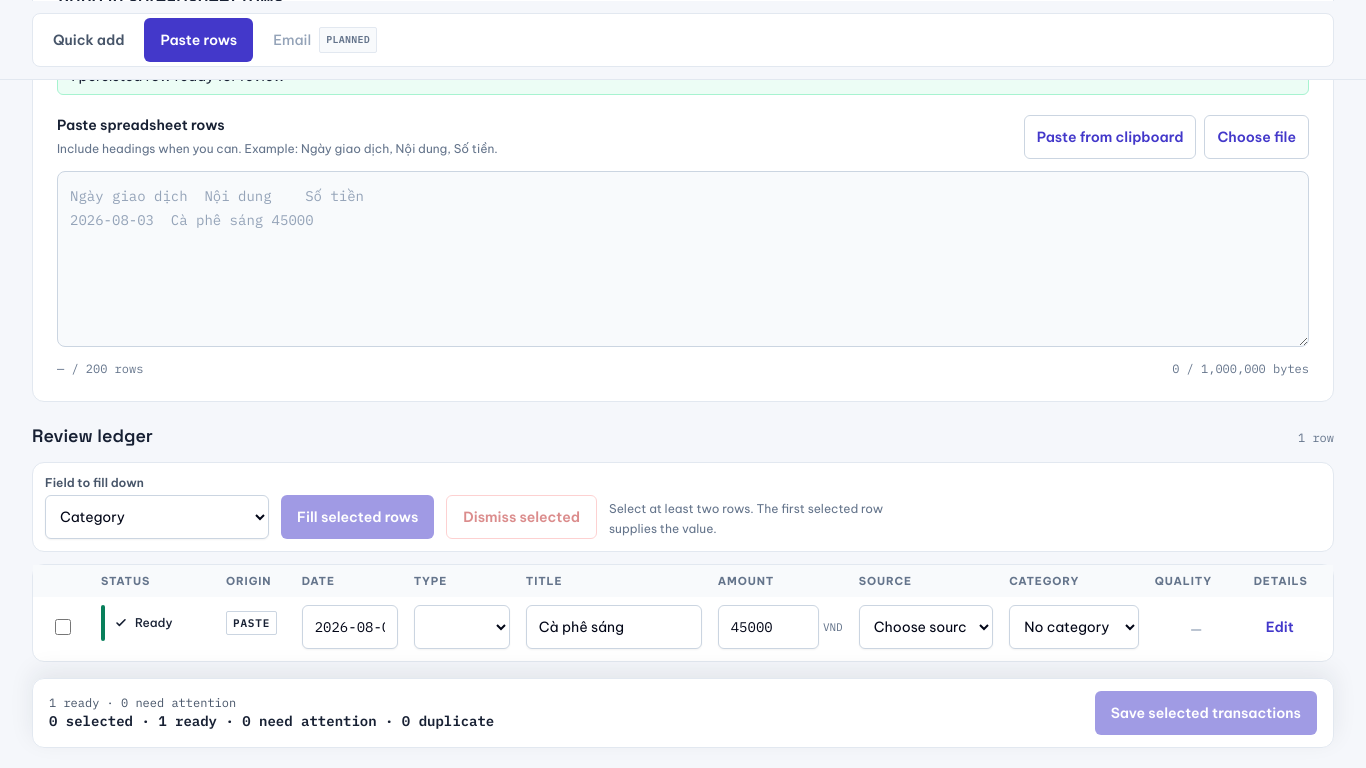
Test: spreadsheet transaction capture › requires dismissal confirmation and restores focus when cancelled
(page scrolled)
Click the checkbox named "Select row 1". click: click(63, 627)
box: [55,619,71,635]
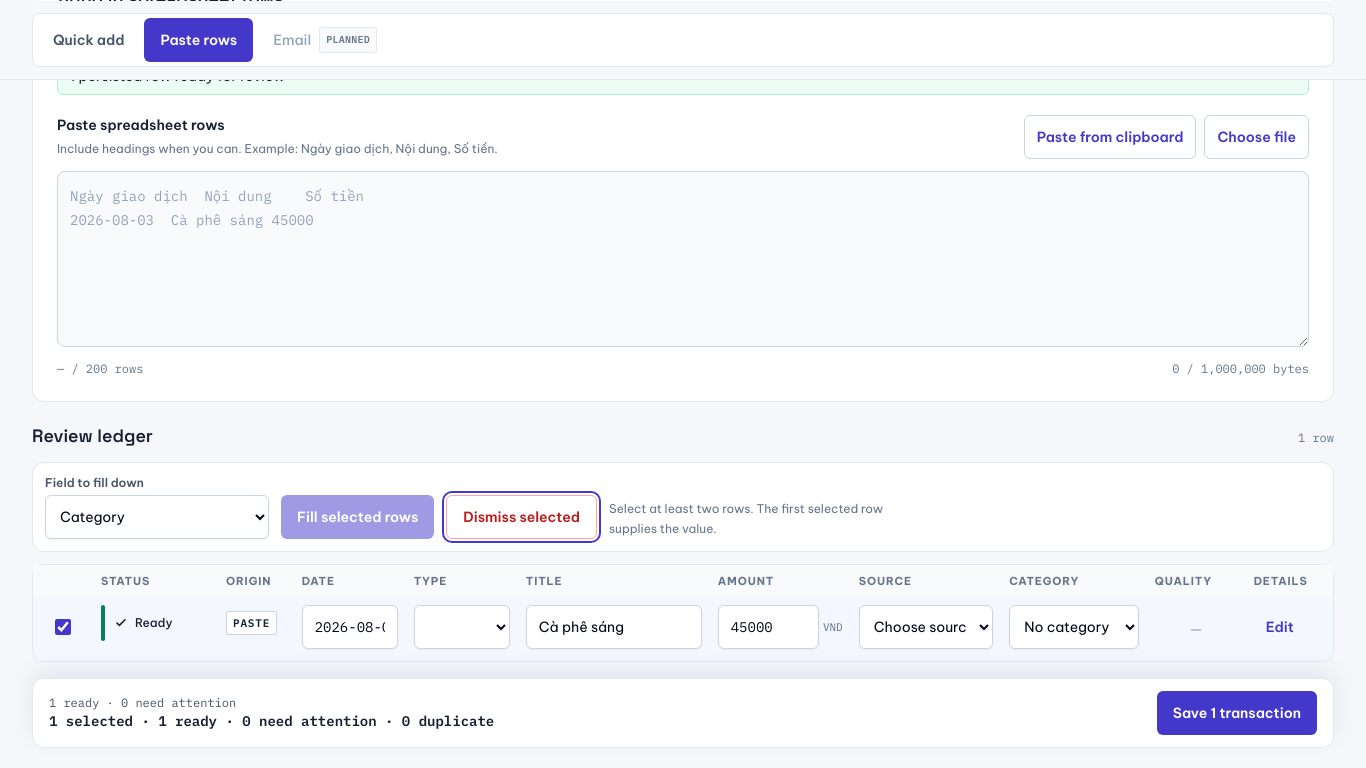
Click the button "Dismiss selected". click: click(522, 516)
box: [446,494,597,538]
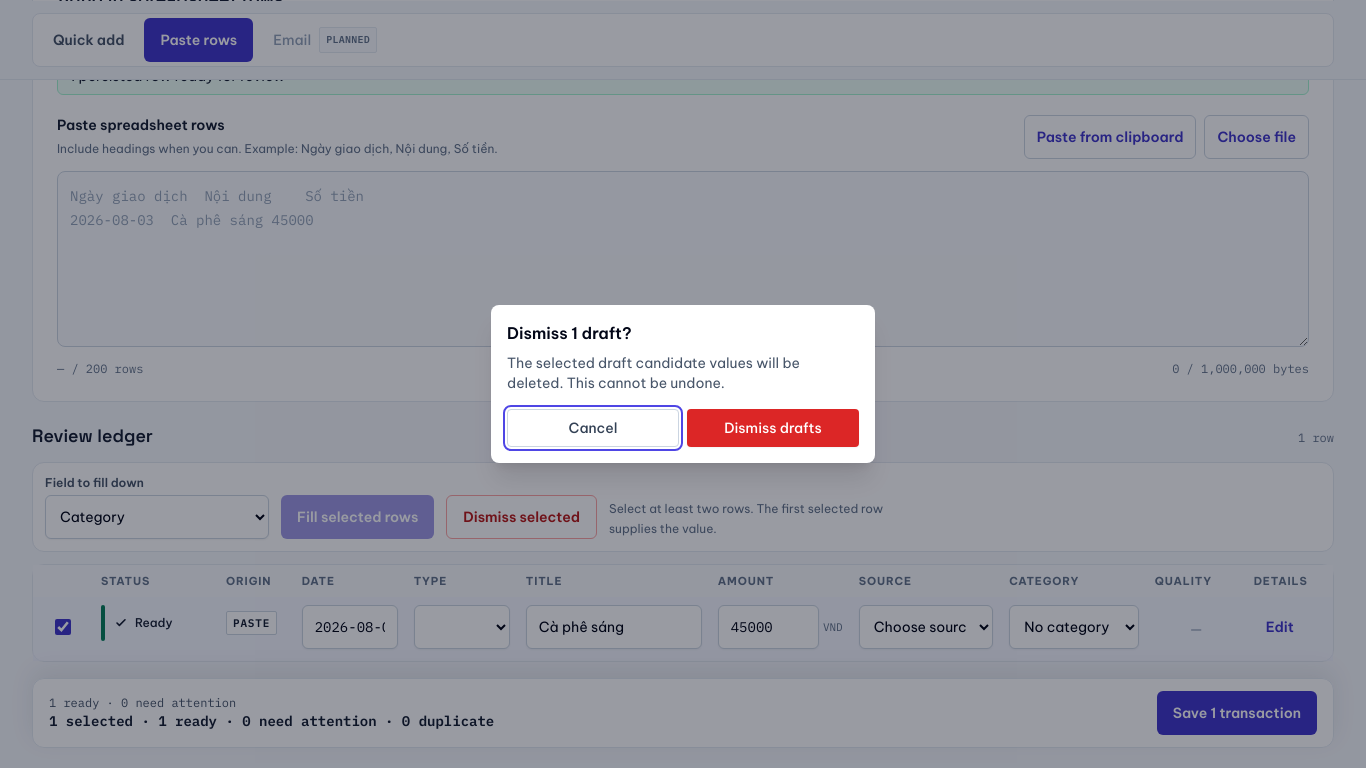
Result: the dialog "Dismiss 1 draft?" is shown at [491,305,875,463]
Result: the text "candidate values will be deleted" is shown at [507,354,800,392]
Click the button "Cancel". click: click(593, 428)
box: [507,409,679,447]
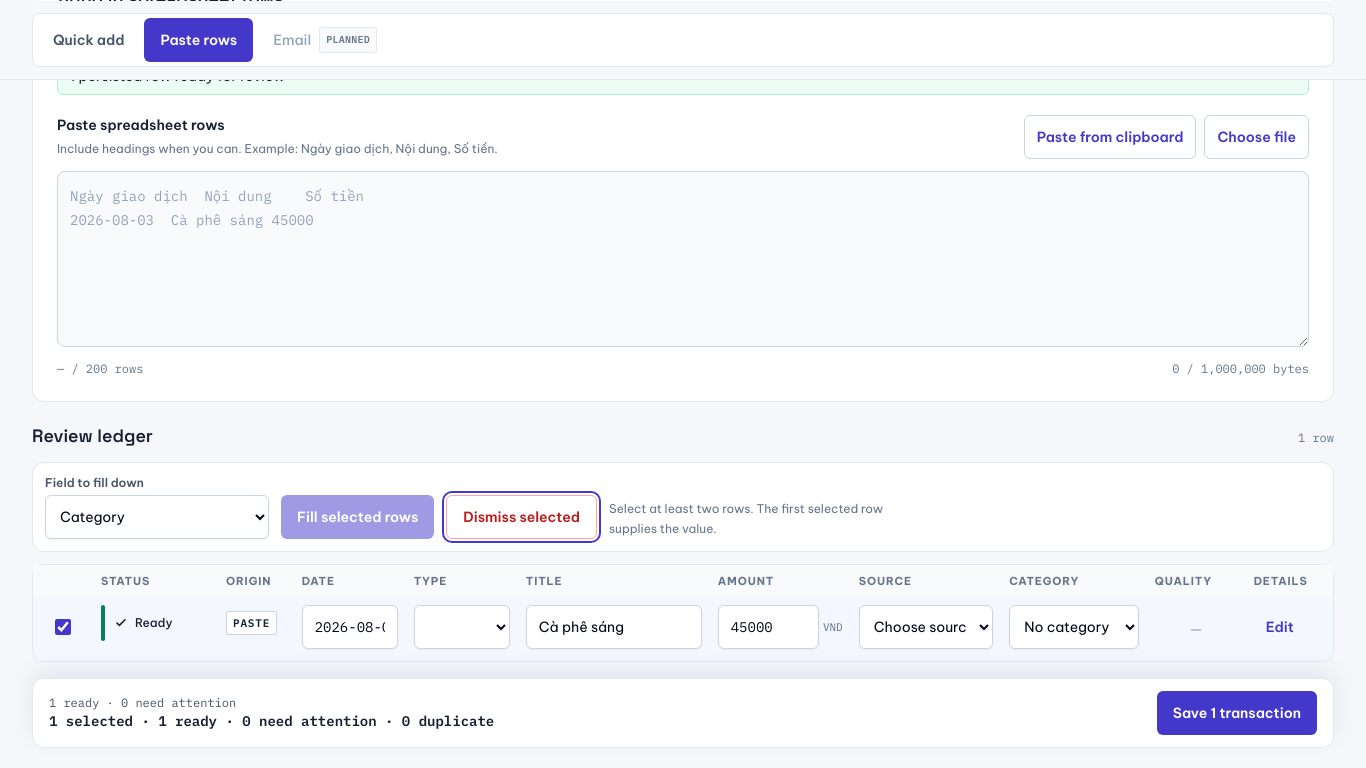
Result: the dialog is gone
